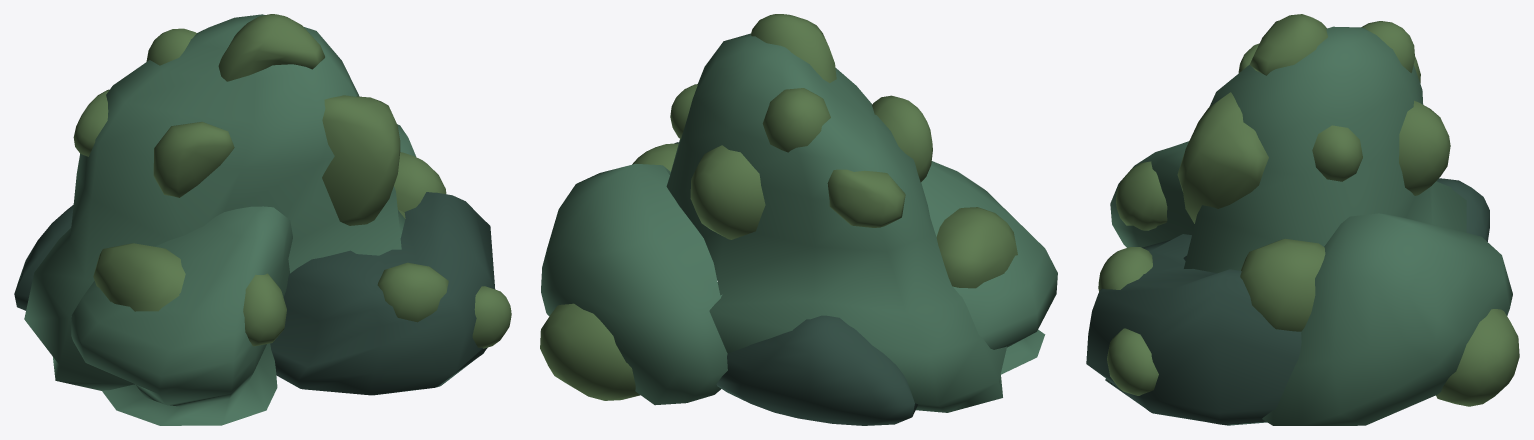
File: sm_bush_02.fbx
3 views of the same model, side by side, from view 1: azimuth 30°, elevation 25°; view 2: azimuth 150°, elevation 25°; view 3: azimuth 270°, elevation 25° (orthographic). The views are drawn at different scales.
Parts seen in each view (by area): view 1: sm_bush_02; view 2: sm_bush_02; view 3: sm_bush_02.
Part boxes in pixels (<box>): sm_bush_02: <box>14,14,511,425</box>; sm_bush_02: <box>540,14,1057,425</box>; sm_bush_02: <box>1086,14,1519,425</box>.
Size of the model in its own units: 5.81 by 4.37 by 5.13.
